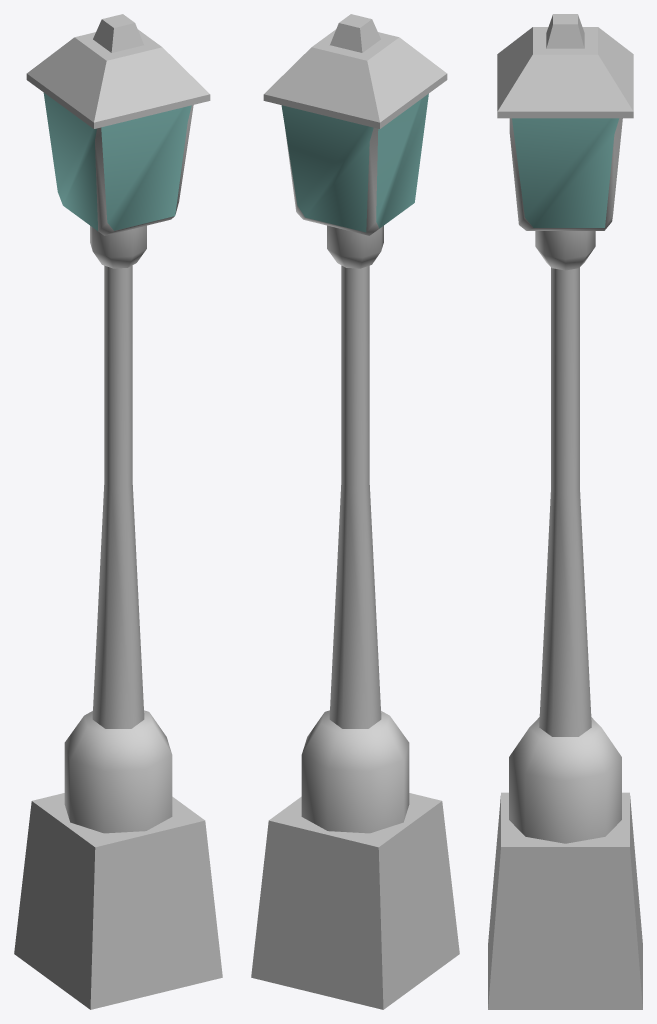
The model's file is lamp.obj.
3 renders of one model, left to right at view 1: azimuth 30°, elevation 25°; view 2: azimuth 150°, elevation 25°; view 3: azimuth 270°, elevation 25°, orthographic.
Visible parts, largest first — view 1: ParkLamp_Untitled.189; view 2: ParkLamp_Untitled.189; view 3: ParkLamp_Untitled.189.
Boxes of the visible parts, <box> form: ParkLamp_Untitled.189: <box>14,14,222,1009</box>; ParkLamp_Untitled.189: <box>251,14,459,1009</box>; ParkLamp_Untitled.189: <box>488,14,642,1009</box>.
Bounding box in the file's own units: 0.4831 × 3.3 × 0.4831.
